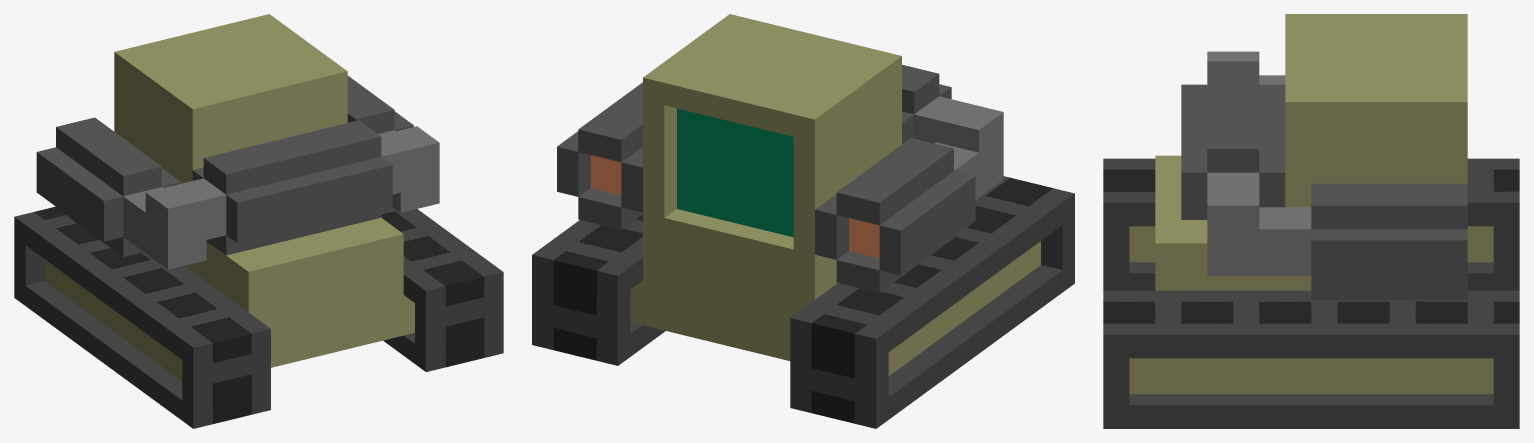
Rendered from Robozin.glb.
3 renders of one model, left to right at view 1: azimuth 30°, elevation 25°; view 2: azimuth 150°, elevation 25°; view 3: azimuth 270°, elevation 25°, orthographic. The views are drawn at different scales.
Parts seen in each view (by area): view 1: Untitled, Untitled_Backup; view 2: Untitled, Untitled_Backup; view 3: Untitled, Untitled_Backup.
Part boxes in pixels (left/top/right/bottom): Untitled: left=14, top=14, right=503, bottom=428; Untitled_Backup: left=14, top=15, right=503, bottom=428; Untitled: left=532, top=14, right=1074, bottom=428; Untitled_Backup: left=532, top=14, right=1074, bottom=428; Untitled: left=1103, top=14, right=1519, bottom=428; Untitled_Backup: left=1103, top=14, right=1519, bottom=427.
Size of the model in its own units: 1.6 by 1.2 by 1.6.
2 materials, 2 textured.
